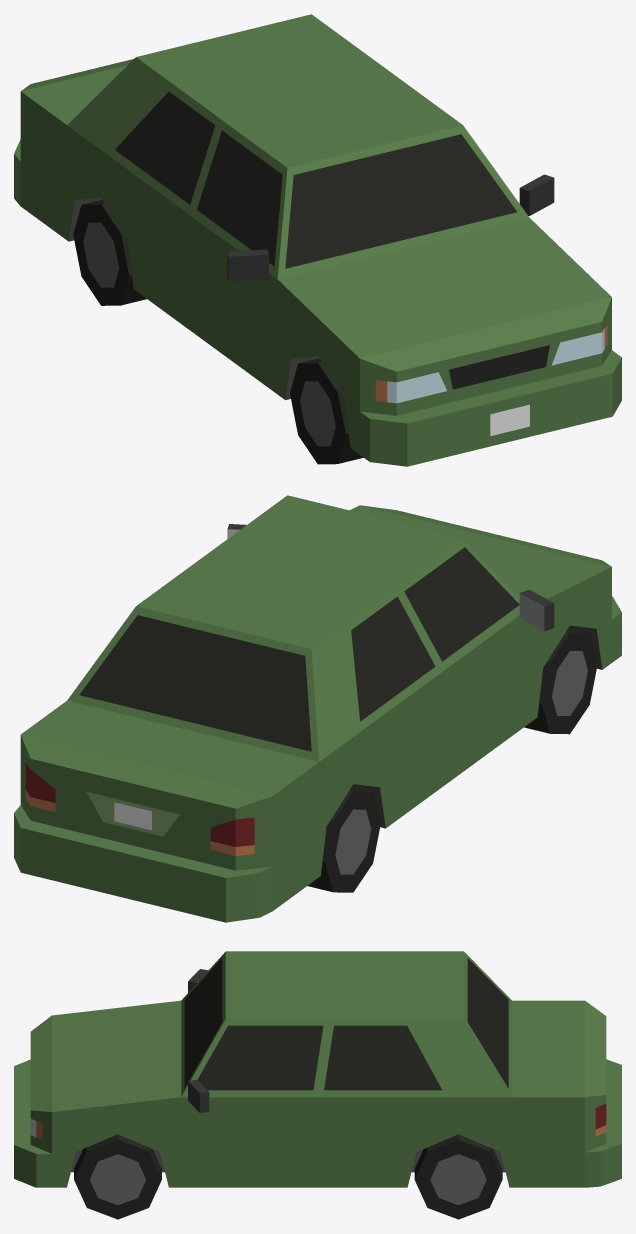
The model's file is Veh_Sedan_01_Green.glb.
3 renders of one model, top to bottom at view 1: azimuth 30°, elevation 25°; view 2: azimuth 150°, elevation 25°; view 3: azimuth 270°, elevation 25°, orthographic. The views are drawn at different scales.
Visible parts, largest first — view 1: Sedan_01_Green, Wheel_FR, Wheel_RR; view 2: Sedan_01_Green, Wheel_RR, Wheel_FR; view 3: Sedan_01_Green, Wheel_RL, Wheel_FL.
Part boxes in pixels (bbox=[...]): Sedan_01_Green: bbox=[14, 14, 621, 466]; Wheel_FR: bbox=[290, 358, 363, 464]; Wheel_RR: bbox=[73, 199, 146, 305]; Sedan_01_Green: bbox=[14, 495, 621, 922]; Wheel_RR: bbox=[308, 786, 381, 892]; Wheel_FR: bbox=[524, 628, 597, 734]; Sedan_01_Green: bbox=[14, 951, 621, 1187]; Wheel_RL: bbox=[414, 1134, 502, 1219]; Wheel_FL: bbox=[74, 1134, 161, 1219].
Bounding box in the file's own units: 1.22 × 0.852 × 2.52.
Materials: 1 (1 with a texture image).
